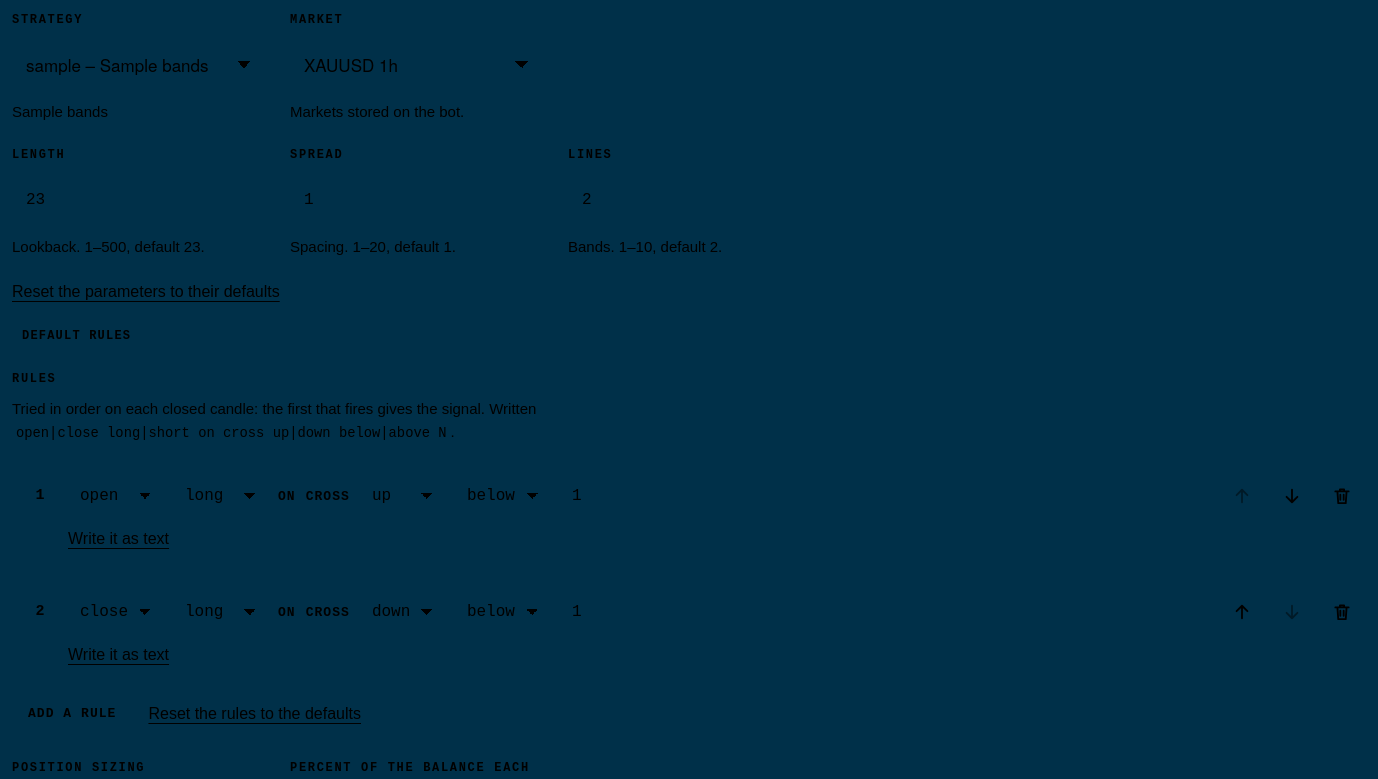
it: the rule editor › writes any rule as text, and offers the controls again once the text fits
The image size is (1378, 779).
Click the 1st button "Write it as text" at [119, 539], box 68,530 -> 169,548
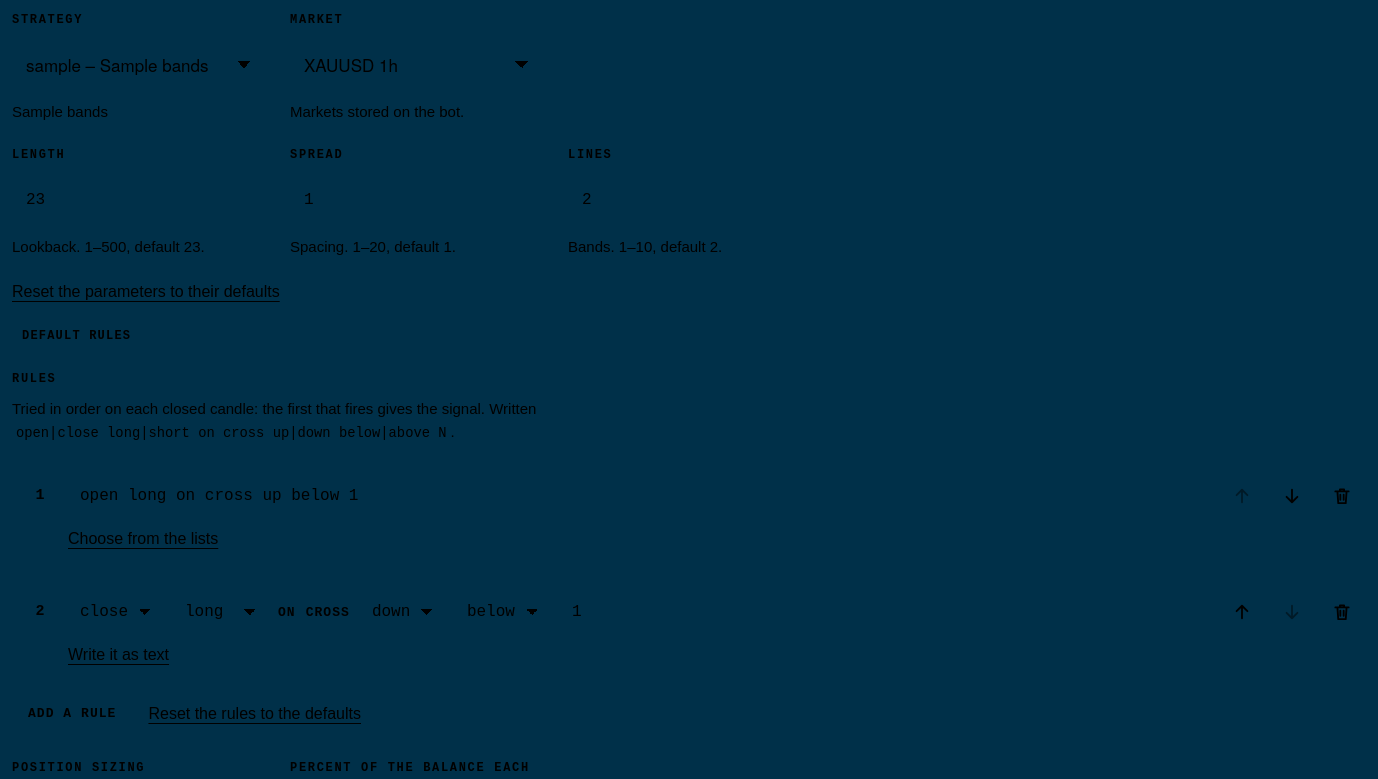
Type "open short on cross down above" into the field named "Rule 1" at [637, 496], box 68,474 -> 1206,518
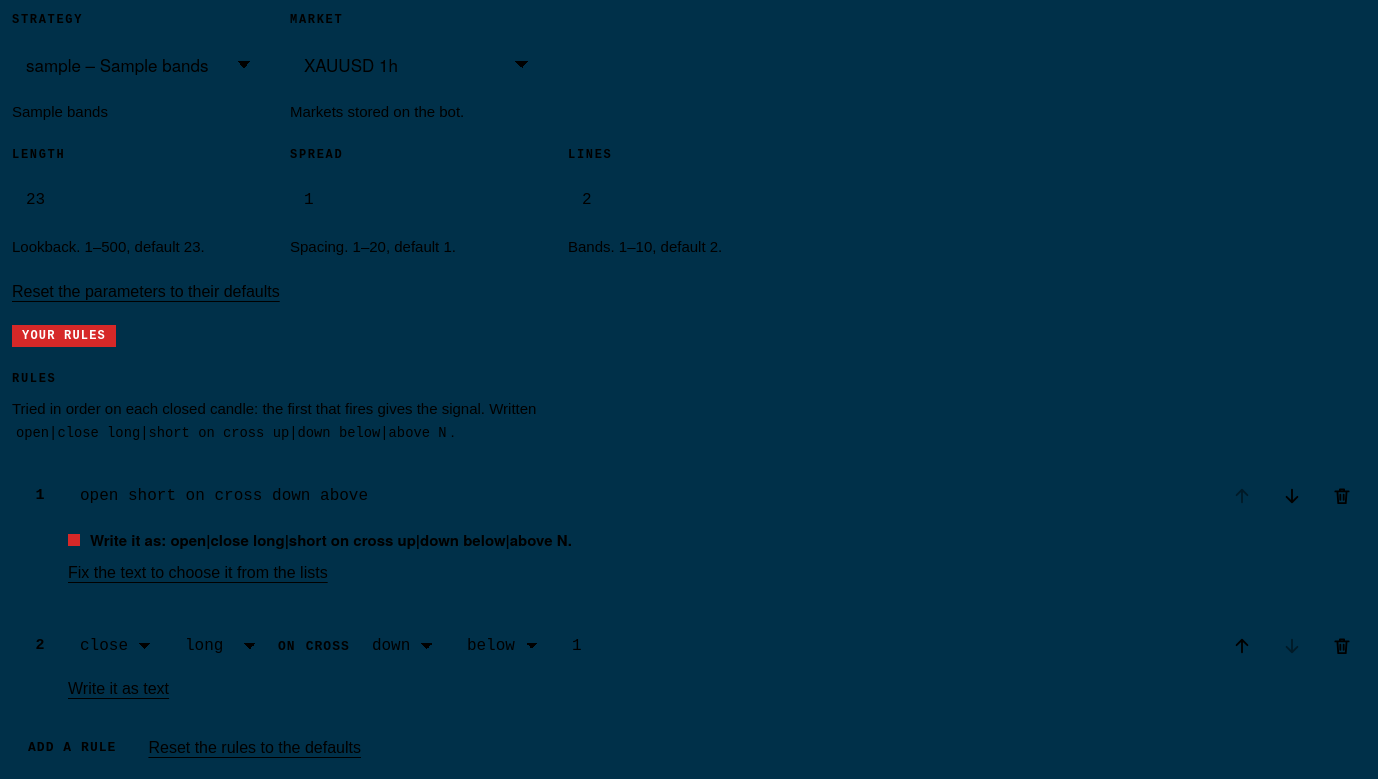
expect the button "Fix the text to choose it from the lists" is disabled: met, box 68,564 -> 328,582
Type " 2" into the field named "Rule 1" at [637, 496], box 68,474 -> 1206,518
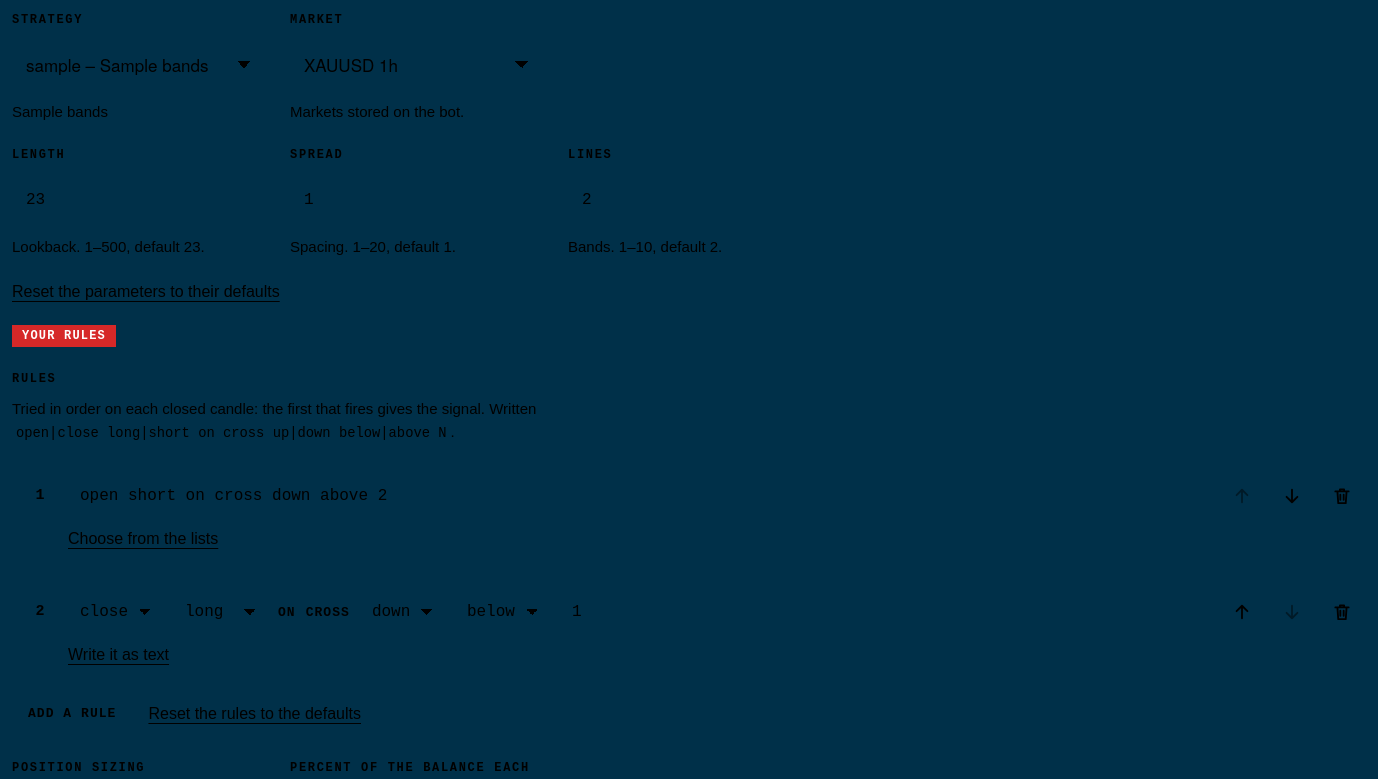
Click the button "Choose from the lists" at [143, 539], box 68,530 -> 218,548
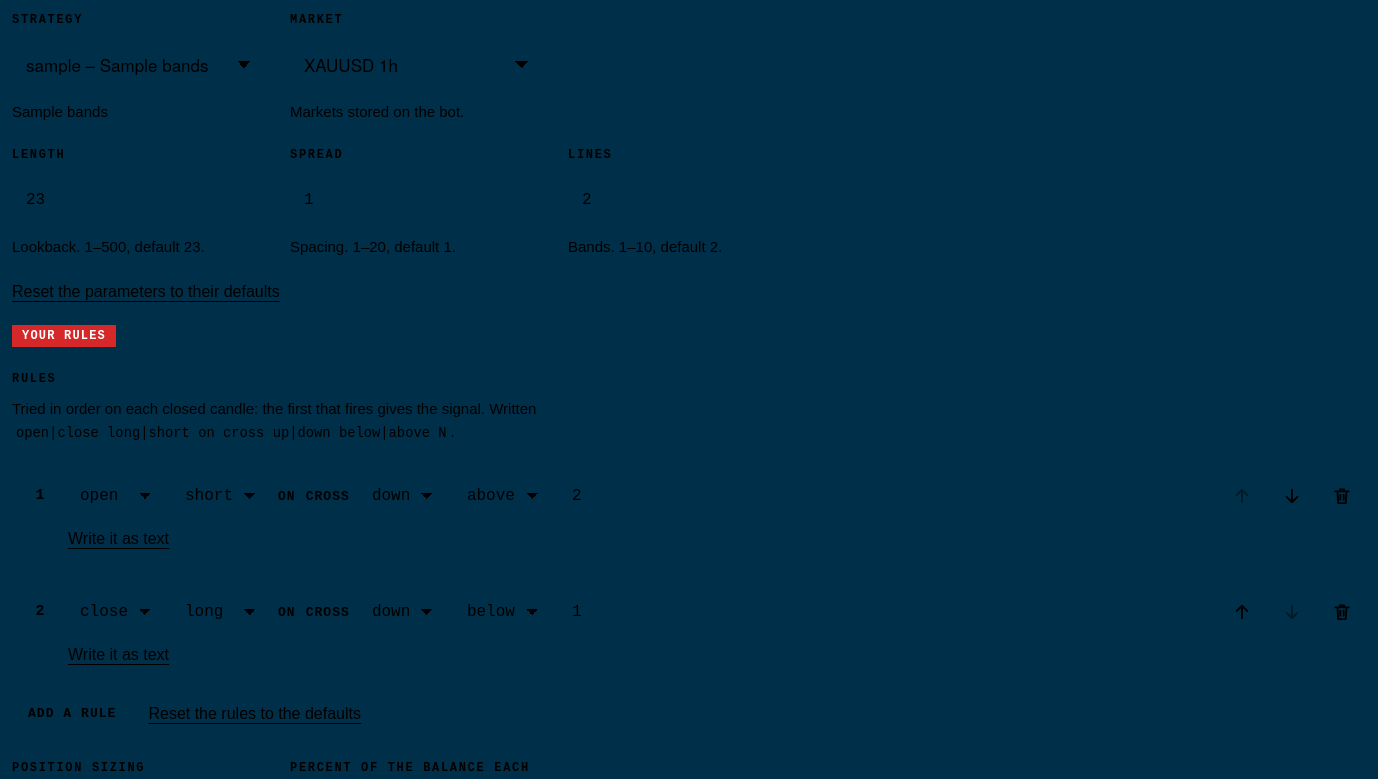
expect the dropdown named "Rule 1: below or above" shows "above": met, box 455,474 -> 550,518
